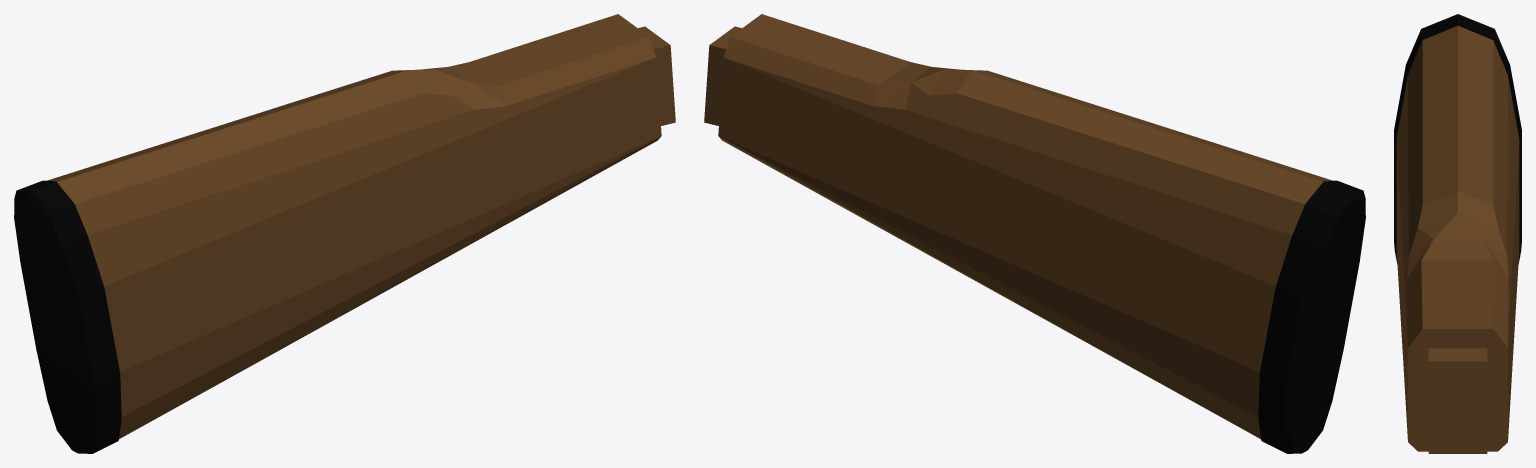
Rendered from zastava_m70_stock.glb.
3 renders of one model, left to right at view 1: azimuth 30°, elevation 25°; view 2: azimuth 150°, elevation 25°; view 3: azimuth 270°, elevation 25°, orthographic. The views are drawn at different scales.
Visible parts, largest first — view 1: zstvm70 stock_15 (×2); view 2: zstvm70 stock_15 (×2); view 3: zstvm70 stock_15 (×2).
Part boxes in pixels (bbox=[...]): zstvm70 stock_15 (×2): bbox=[14, 14, 675, 453]; zstvm70 stock_15 (×2): bbox=[704, 14, 1365, 453]; zstvm70 stock_15 (×2): bbox=[1394, 14, 1521, 453].
Bounding box in the file's own units: 2.78 × 1.26 × 0.4229.
